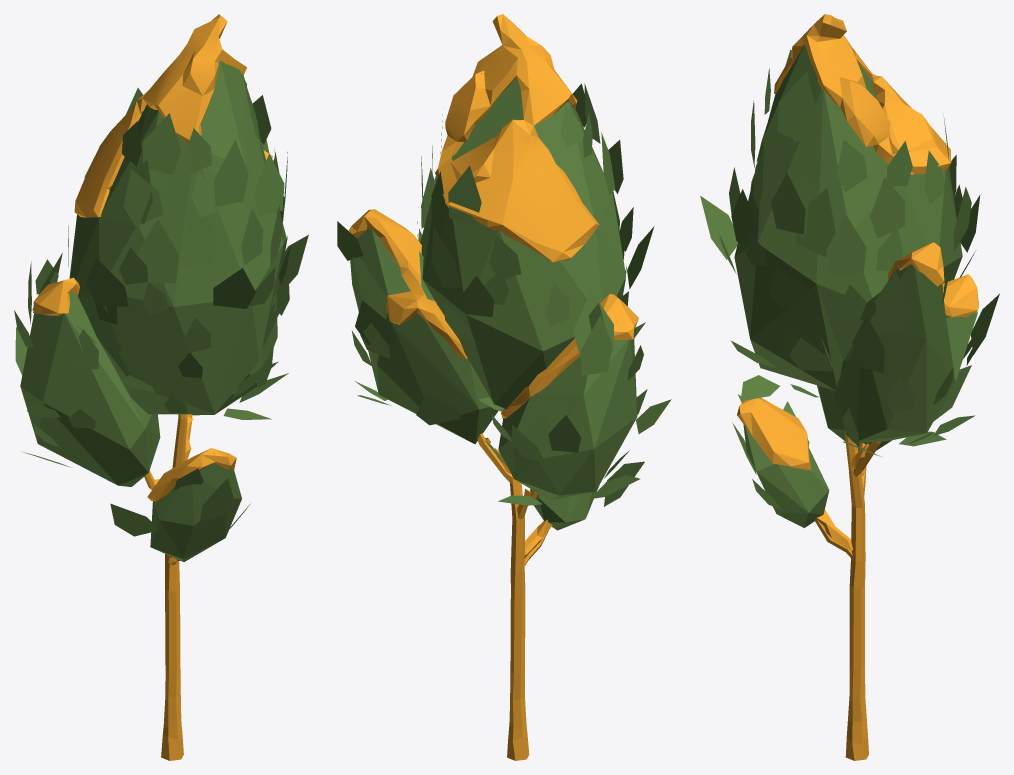
Rendered from SM_Tree_Poplar_Young_A_Snow.fbx.
3 renders of one model, left to right at view 1: azimuth 30°, elevation 25°; view 2: azimuth 150°, elevation 25°; view 3: azimuth 270°, elevation 25°, orthographic. The views are drawn at different scales.
Visible parts, largest first — view 1: tree-poplar-young-a-snow; view 2: tree-poplar-young-a-snow; view 3: tree-poplar-young-a-snow.
Part boxes in pixels (left/top/right/bottom): tree-poplar-young-a-snow: left=14, top=14, right=308, bottom=760; tree-poplar-young-a-snow: left=337, top=14, right=671, bottom=760; tree-poplar-young-a-snow: left=700, top=14, right=999, bottom=760.
Size of the model in its own units: 3.01 by 7.32 by 2.63.
